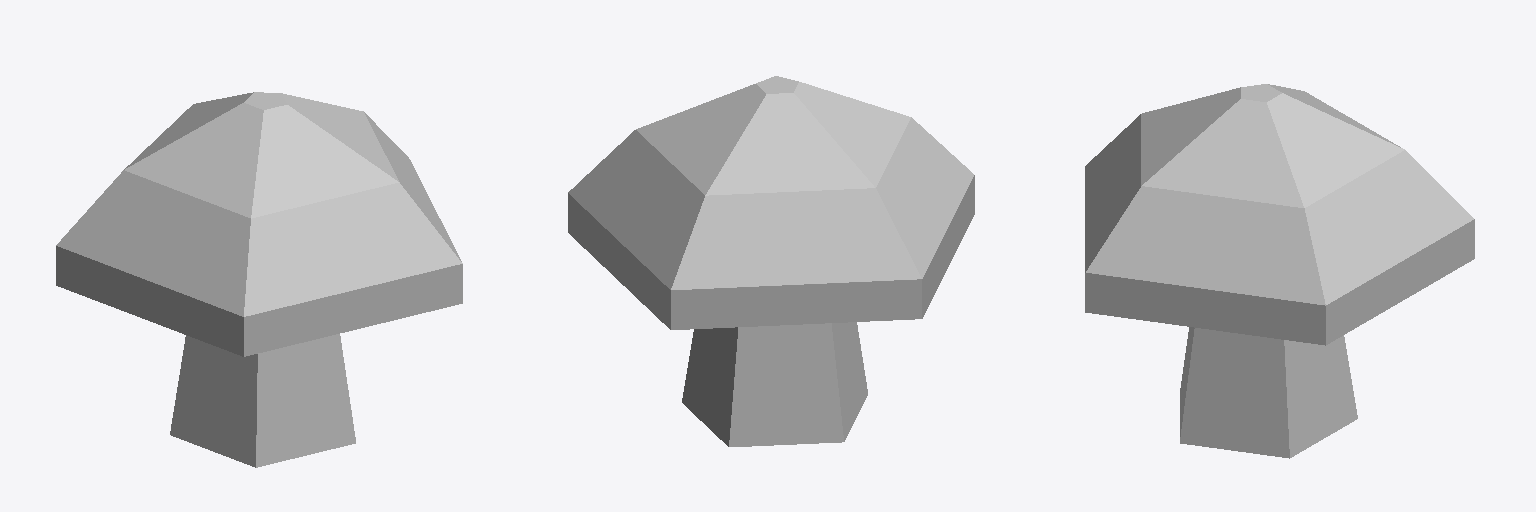
The model's file is Mushroom_1_Snow.obj.
The picture shows the model from 3 angles: view 1: azimuth 30°, elevation 25°; view 2: azimuth 150°, elevation 25°; view 3: azimuth 270°, elevation 25°; orthographic projection.
Parts seen in each view (by area): view 1: Mushroom_1_Snow_Cylinder.022; view 2: Mushroom_1_Snow_Cylinder.022; view 3: Mushroom_1_Snow_Cylinder.022.
Boxes of the visible parts, x1,y1,x2,y2 form: Mushroom_1_Snow_Cylinder.022: [56, 92, 462, 467]; Mushroom_1_Snow_Cylinder.022: [568, 76, 974, 446]; Mushroom_1_Snow_Cylinder.022: [1085, 84, 1474, 458].
Size of the model in its own units: 0.3911 by 0.3438 by 0.372.